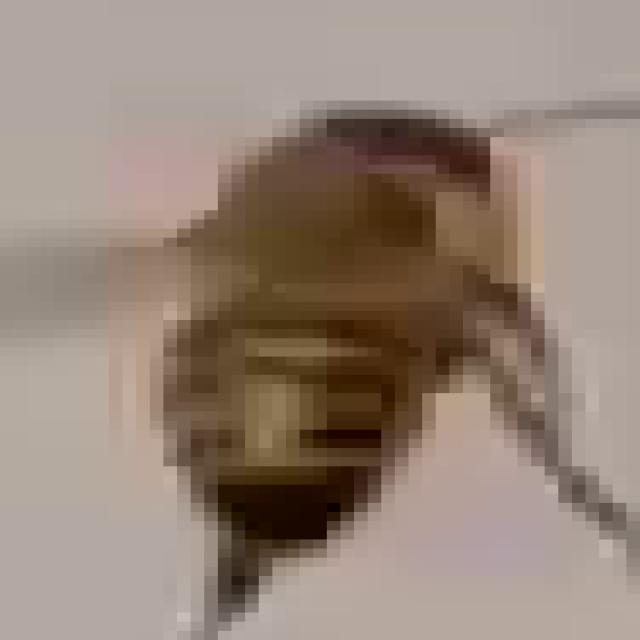honeybee: (149, 105, 624, 596)
